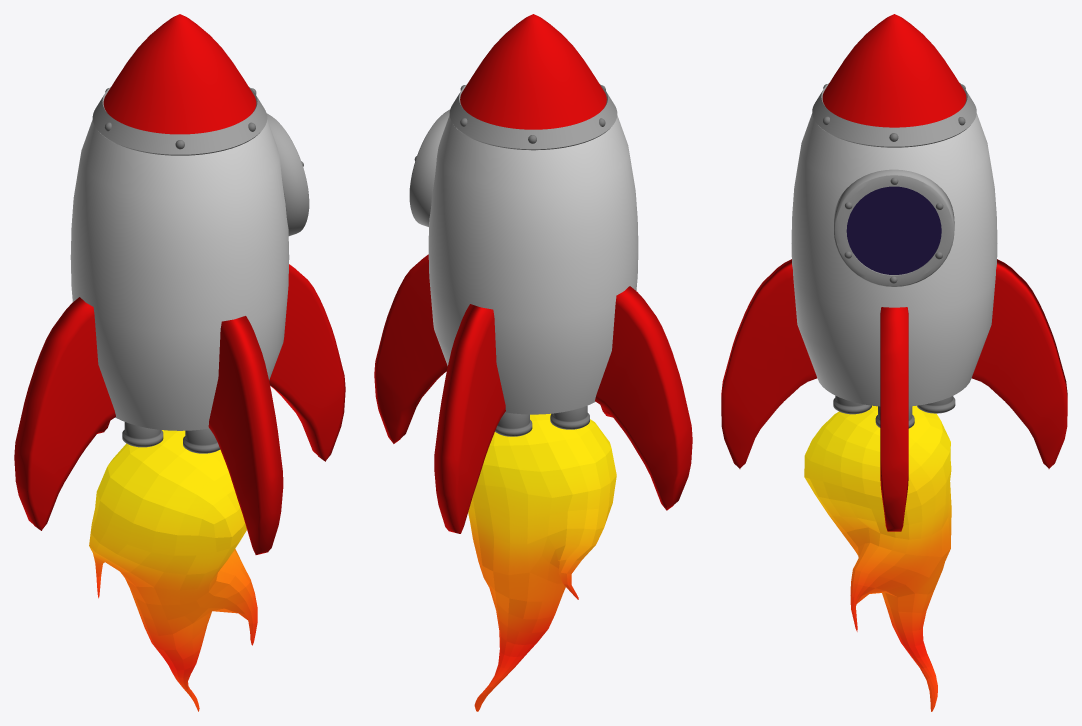
3 views of the same model, side by side, from view 1: azimuth 30°, elevation 25°; view 2: azimuth 150°, elevation 25°; view 3: azimuth 270°, elevation 25° (orthographic). The views are drawn at different scales.
Parts seen in each view (by area): view 1: Cylinder, Cube_Material.001_0, fire3:Group20972, Cylinder.001, Cylinder.002, Cylinder.003, Cylinder.005; view 2: Cylinder, Cube_Material.001_0, fire3:Group20972, Cylinder.001, Cylinder.002, Cylinder.003, Cylinder.005; view 3: Cylinder, Cube_Material.001_0, fire3:Group20972, Cylinder.001, Cylinder.004, Cylinder.003, Cylinder.002, Cylinder.005.
Part boxes in pixels (left/top/right/bottom): Cylinder: left=70, top=119, right=289, bottom=430; Cube_Material.001_0: left=14, top=264, right=345, bottom=554; fire3:Group20972: left=89, top=430, right=257, bottom=711; Cylinder.001: left=103, top=14, right=256, bottom=134; Cylinder.002: left=92, top=87, right=267, bottom=155; Cylinder.003: left=223, top=113, right=309, bottom=235; Cylinder.005: left=122, top=422, right=220, bottom=453; Cylinder: left=428, top=115, right=638, bottom=414; Cube_Material.001_0: left=374, top=254, right=692, bottom=533; fire3:Group20972: left=468, top=413, right=616, bottom=711; Cylinder.001: left=460, top=14, right=606, bottom=129; Cylinder.002: left=449, top=84, right=617, bottom=150; Cylinder.003: left=409, top=109, right=493, bottom=226; Cylinder.005: left=495, top=405, right=589, bottom=436; Cylinder: left=791, top=113, right=997, bottom=406; Cube_Material.001_0: left=721, top=259, right=1067, bottom=531; fire3:Group20972: left=804, top=405, right=951, bottom=711; Cylinder.001: left=822, top=14, right=966, bottom=127; Cylinder.004: left=846, top=186, right=941, bottom=274; Cylinder.003: left=834, top=169, right=954, bottom=286; Cylinder.002: left=812, top=83, right=976, bottom=147; Cylinder.005: left=833, top=395, right=955, bottom=428.
Bounding box in the file's own units: 6.52 × 14.12 × 6.52.
Materials: 6 (1 with a texture image).
